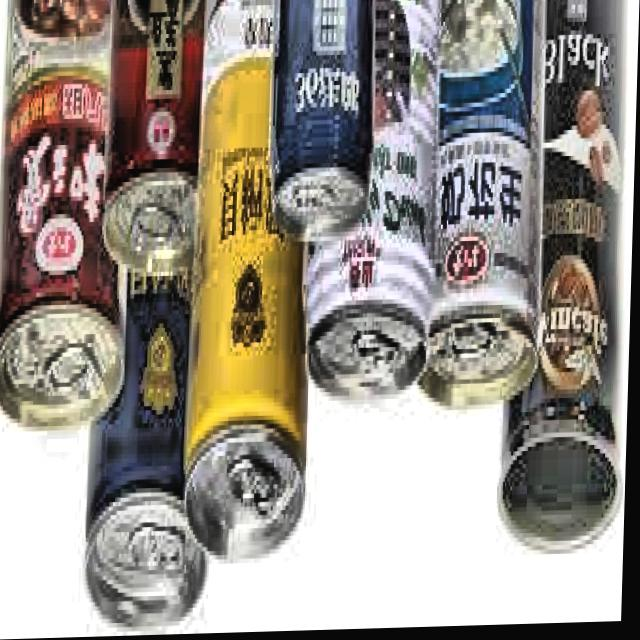can: (496, 0, 640, 568), (185, 0, 324, 574), (298, 0, 445, 422), (0, 0, 137, 450), (418, 0, 554, 422), (83, 261, 223, 637), (98, 0, 212, 297), (268, 0, 380, 253)
